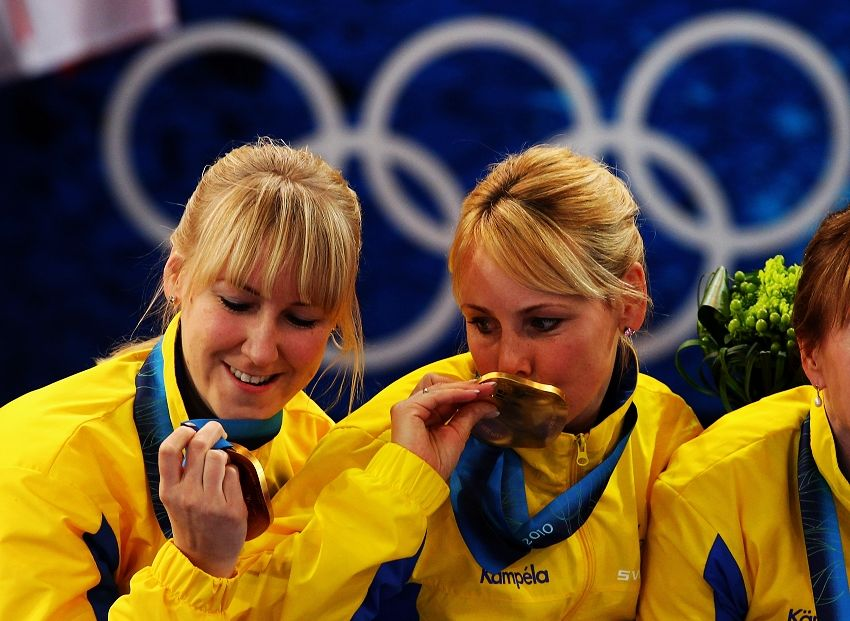face: (182, 241, 339, 420), (456, 247, 612, 425)
